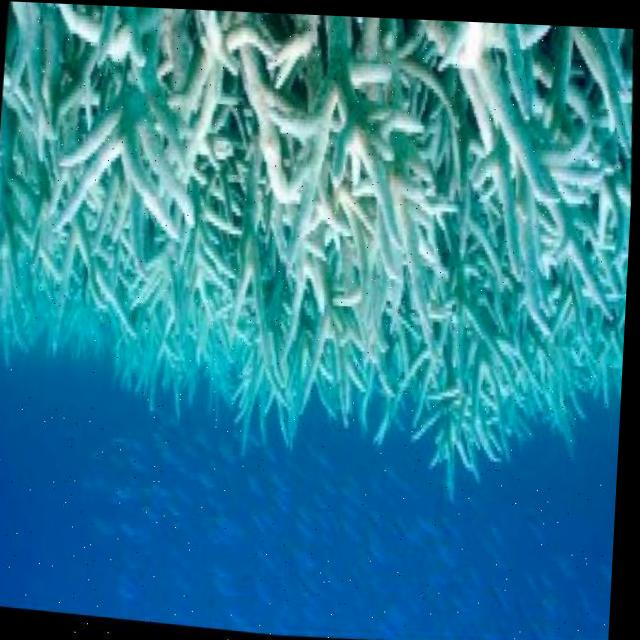Bleached Coral: (0, 0, 640, 466)
